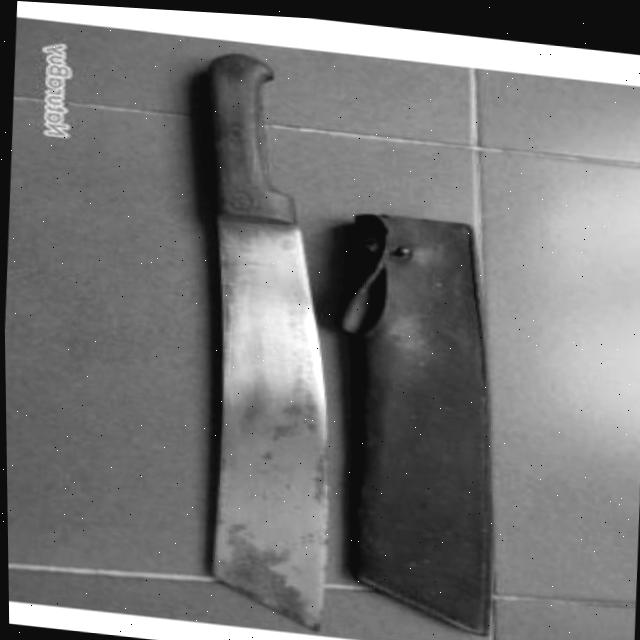long knife: (92, 41, 375, 622)
